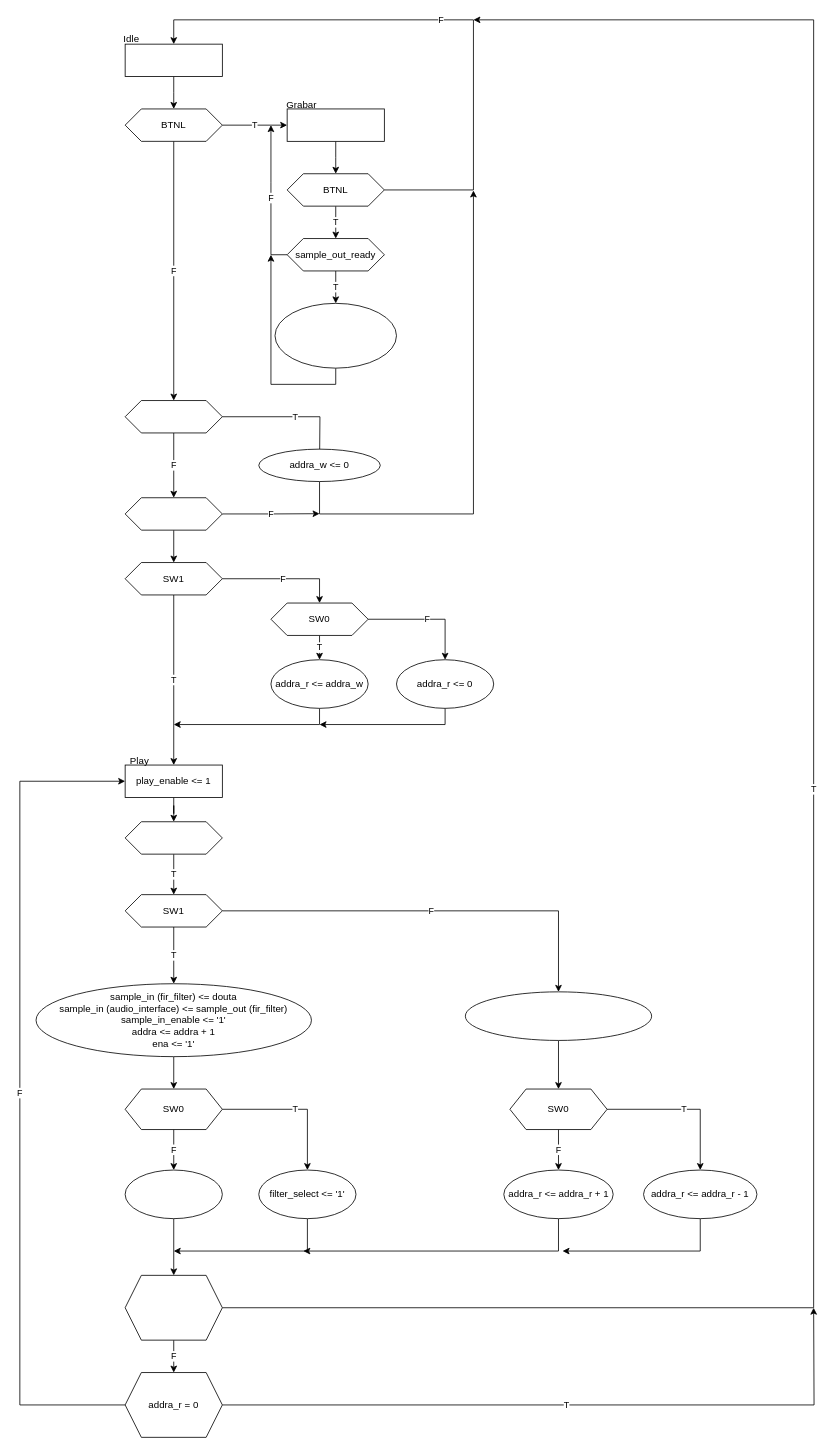
Some shapes in this 835 by 1452 pixel diagram are drawn without their labels. The centre of each missing label's shape, as x and y in pixels:
"addra_r = addra_w" belongs at [173,1307].
"BTNC" belongs at [173,416].
"BTNR" belongs at [173,513].
"dina <= sample_out addra_w <= addra_w + 1 addra <= addra_w ena <= 1 wea <= 1" belongs at [335,335].
"filter_select <= '0'" belongs at [173,1194].
"record_enable <= 1" belongs at [335,124].
"sample_in (audio_interface) <= douta ena <= '1'" belongs at [558,1015].
"sample_request" belongs at [173,837].
